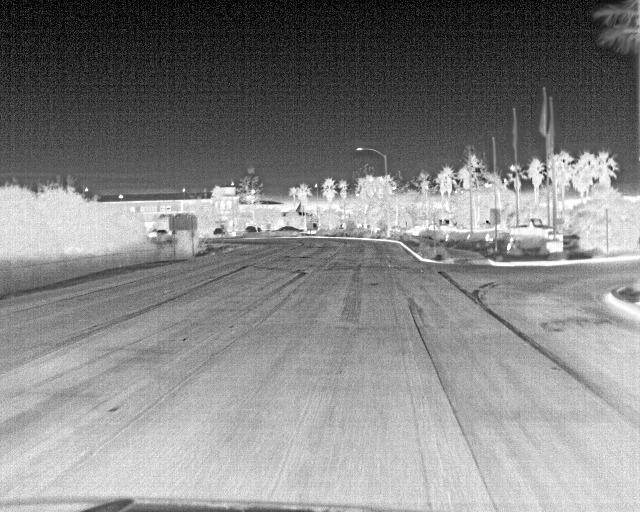car: (511, 216, 555, 239), (272, 225, 305, 237), (156, 228, 169, 240)
